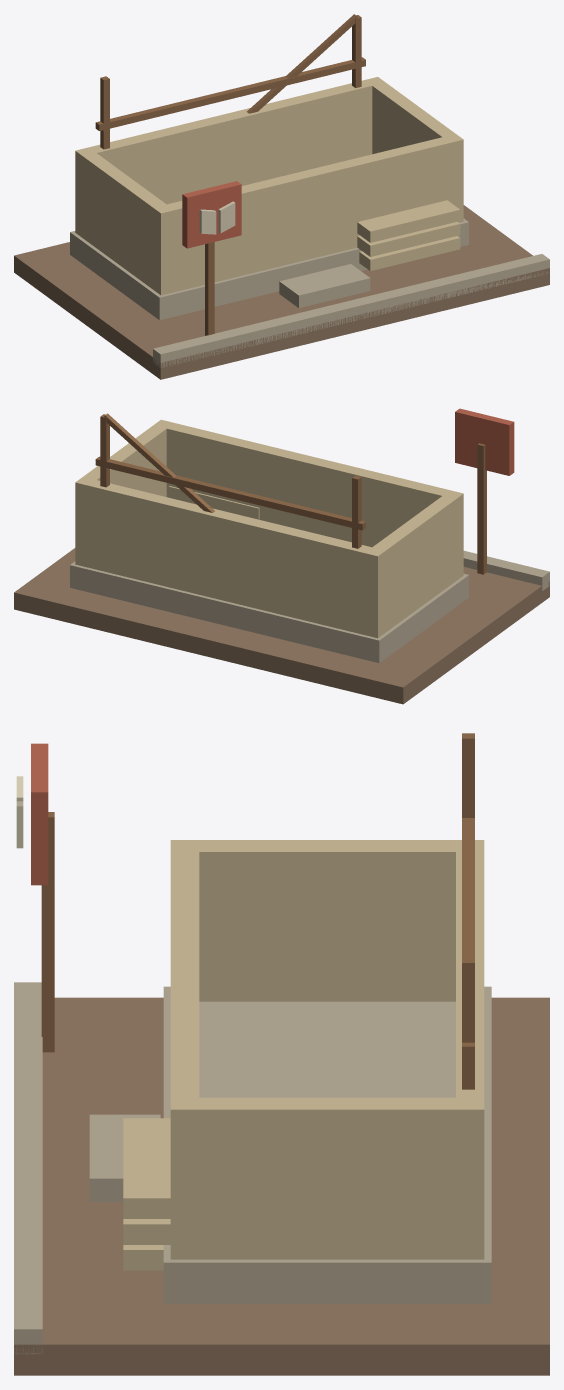
The model's file is library-sunrise-half-built.glb.
3 renders of one model, top to bottom at view 1: azimuth 30°, elevation 25°; view 2: azimuth 150°, elevation 25°; view 3: azimuth 270°, elevation 25°, orthographic. The views are drawn at different scales.
Parts seen in each view (by area): view 1: library; view 2: library; view 3: library.
Part boxes in pixels (x1,y1,x2,y2): library: [14, 14, 549, 379]; library: [14, 408, 549, 704]; library: [14, 733, 549, 1375].
Size of the model in its own units: 2.88 by 1.38 by 1.88.
